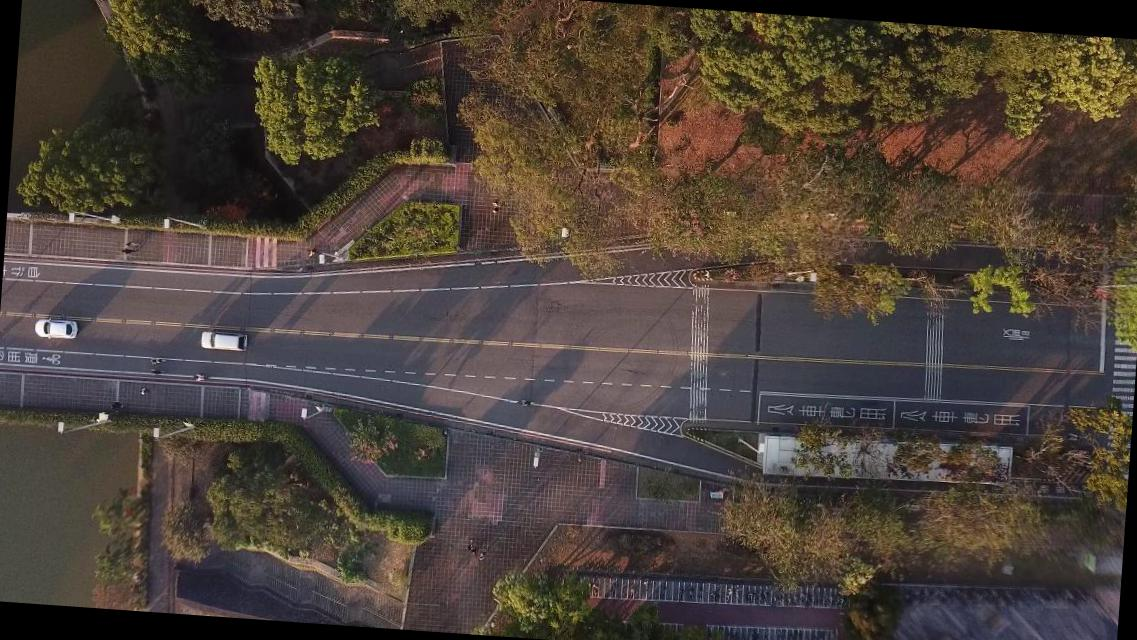vehicle: (200, 329, 247, 352), (33, 316, 76, 340)
